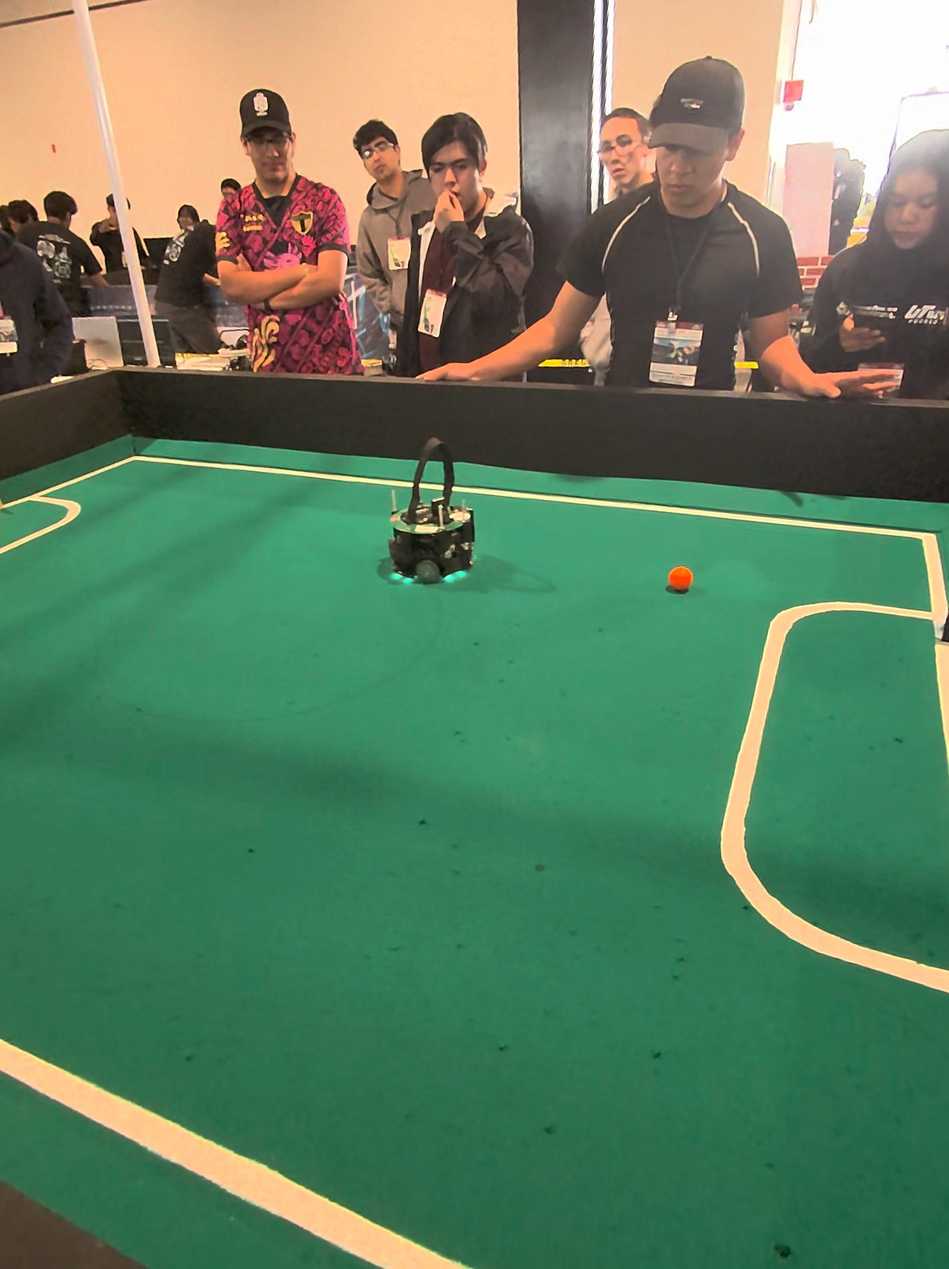Robot: (379, 440, 479, 602)
pelota: (656, 558, 703, 604)
